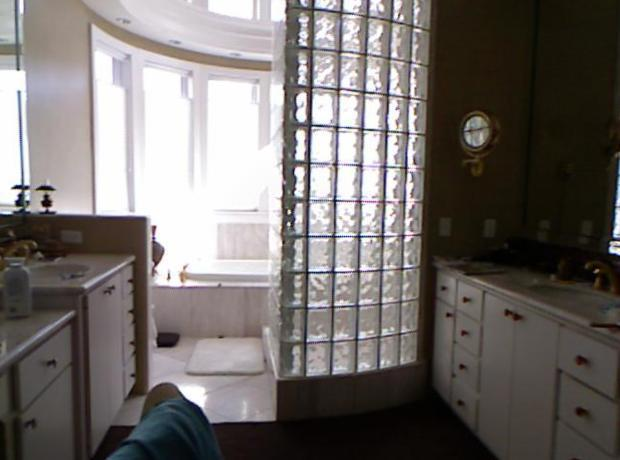Lavamanos: (0, 227, 100, 306), (518, 254, 616, 328)
